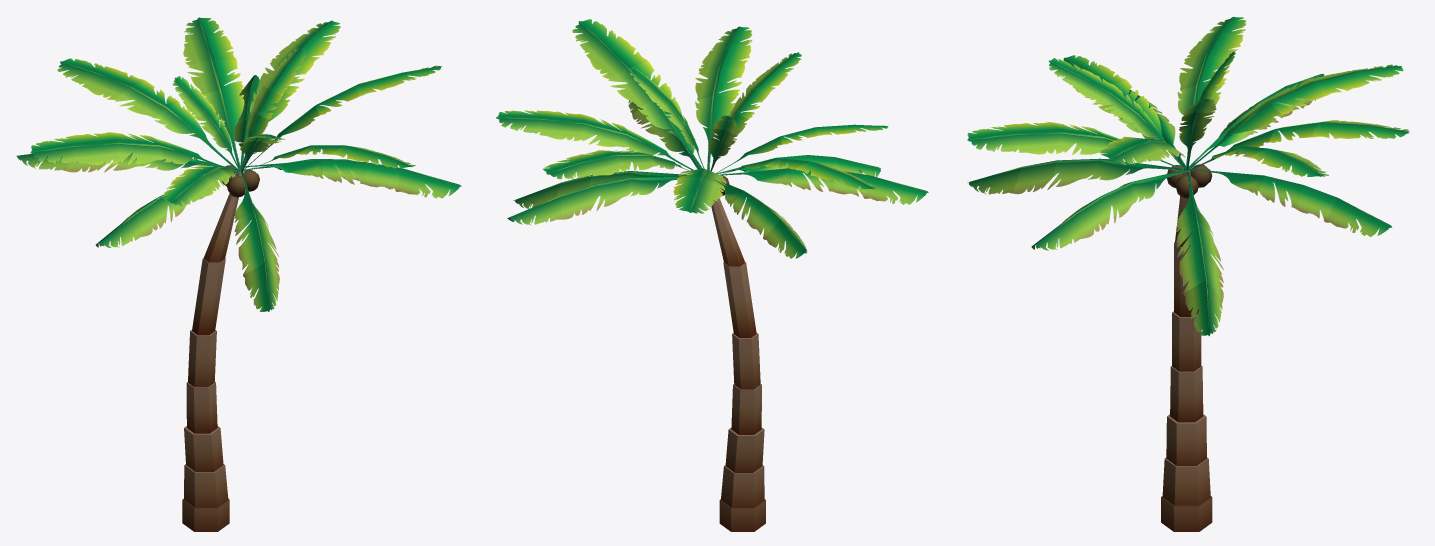
Rendered from CoconutTree.fbx.
The picture shows the model from 3 angles, left to right: view 1: azimuth 30°, elevation 25°; view 2: azimuth 150°, elevation 25°; view 3: azimuth 270°, elevation 25°; orthographic projection. The views are drawn at different scales.
Visible parts, largest first — view 1: Cylinder.020, CoconutLeaft.001, CoconutLeaft.004, CoconutLeaft.005, CoconutLeaft.014, CoconutLeaft.015, CoconutLeaft.010, CoconutLeaft.009, CoconutLeaft.013, CoconutLeaft.008, CoconutLeaft.011, CoconutLeaft.003 (+4 smaller); view 2: Cylinder.020, CoconutLeaft.008, CoconutLeaft.007, CoconutLeaft.010, CoconutLeaft.002, CoconutLeaft.013, CoconutLeaft.001, CoconutLeaft.012, CoconutLeaft.004, CoconutLeaft.006, CoconutLeaft.016, CoconutLeaft.005 (+5 smaller); view 3: Cylinder.020, CoconutLeaft.016, CoconutLeaft.007, CoconutLeaft.002, CoconutLeaft.014, CoconutLeaft.004, CoconutLeaft.015, CoconutLeaft.005, CoconutLeaft.006, CoconutLeaft.001, CoconutLeaft.008, CoconutLeaft.011 (+3 smaller).
Part boxes in pixels (<box>): Cylinder.020: <box>182,171,244,531</box>; CoconutLeaft.001: <box>183,17,244,170</box>; CoconutLeaft.004: <box>57,58,238,169</box>; CoconutLeaft.005: <box>30,132,238,171</box>; CoconutLeaft.014: <box>234,171,279,311</box>; CoconutLeaft.015: <box>240,160,461,198</box>; CoconutLeaft.010: <box>243,20,340,165</box>; CoconutLeaft.009: <box>241,48,305,169</box>; CoconutLeaft.013: <box>95,171,240,247</box>; CoconutLeaft.008: <box>243,65,441,170</box>; CoconutLeaft.011: <box>163,164,240,206</box>; CoconutLeaft.003: <box>172,76,240,170</box>; Cylinder.020: <box>711,198,765,531</box>; CoconutLeaft.008: <box>572,19,702,168</box>; CoconutLeaft.007: <box>695,26,752,170</box>; CoconutLeaft.010: <box>496,110,693,170</box>; CoconutLeaft.002: <box>507,176,678,225</box>; CoconutLeaft.013: <box>721,168,928,204</box>; CoconutLeaft.001: <box>543,150,688,179</box>; CoconutLeaft.012: <box>714,179,807,258</box>; CoconutLeaft.004: <box>673,168,726,213</box>; CoconutLeaft.006: <box>713,52,801,167</box>; CoconutLeaft.016: <box>513,171,686,208</box>; CoconutLeaft.005: <box>720,158,876,189</box>; Cylinder.020: <box>1161,170,1212,531</box>; CoconutLeaft.016: <box>1176,171,1223,336</box>; CoconutLeaft.007: <box>967,122,1184,170</box>; CoconutLeaft.002: <box>1188,169,1392,236</box>; CoconutLeaft.014: <box>967,158,1184,194</box>; CoconutLeaft.004: <box>1190,64,1403,168</box>; CoconutLeaft.015: <box>1031,168,1193,250</box>; CoconutLeaft.005: <box>1177,16,1246,166</box>; CoconutLeaft.006: <box>1048,58,1184,168</box>; CoconutLeaft.001: <box>1191,120,1409,168</box>; CoconutLeaft.008: <box>1099,136,1186,169</box>; CoconutLeaft.011: <box>1063,55,1183,168</box>.
Size of the model in its own units: 3.5 by 3.88 by 3.38.
2 materials, 2 textured.
